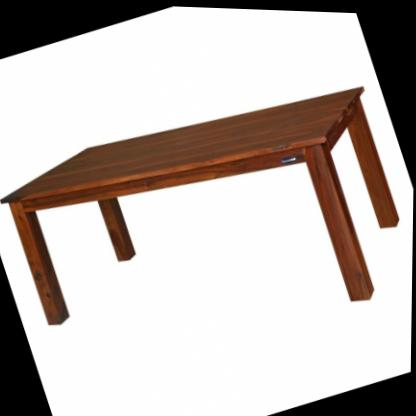Table: (0, 41, 416, 416)
